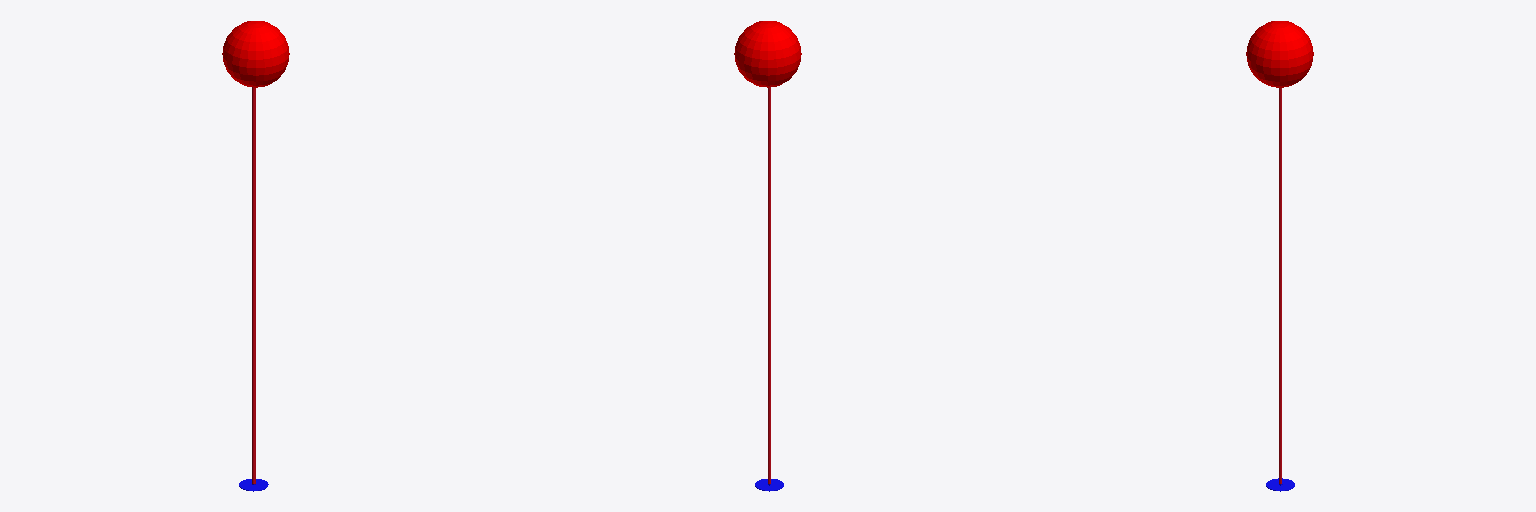
robot.urdf — buoy_red:
<robot name="buoy_red">
  <link name="buoy_red">
    <inertial>
      <origin rpy="0 0 0" xyz="0.1 0.1 0"/>
      <mass value="10"/>
      <inertia ixx="0" ixy="0" ixz="0" iyy="0" iyz="0" izz="0"/>
    </inertial>
    <visual>
      <origin rpy="0 0 0" xyz="0 0 0"/>
      <geometry>
        <mesh filename="package://varun_gazebo/models/buoy_red/meshes/buoy_red.dae"/>
      </geometry>
    </visual>
    <collision>
      <origin rpy="0 0 0" xyz="0 0 0"/>
      <geometry>
        <mesh filename="package://varun_gazebo/models/buoy_red/meshes/buoy_red.dae"/>
      </geometry>
    </collision>
  </link>
</robot>

--- What the picture shows (computed from the rendered views, not written in the file) ---
3 views of the same robot in one strip: view 1: azimuth 30°, elevation 25°; view 2: azimuth 150°, elevation 25°; view 3: azimuth 270°, elevation 25° (orthographic).
Robot: buoy_red — 1 links, 0 joints (none); root link buoy_red; default pose: every joint at zero.
Links seen in each view (by area): view 1: buoy_red; view 2: buoy_red; view 3: buoy_red.
Link boxes in pixels (box(x1,y1,x2,y2)): buoy_red: box(222, 21, 289, 491); buoy_red: box(734, 21, 801, 491); buoy_red: box(1246, 21, 1313, 491).
Bounding box of the posed robot: 0.4572 × 0.4572 × 3.46 m (x, y, z).
Meshes: 1 distinct files referenced, 1 mesh visuals loaded (1 Collada DAE).
